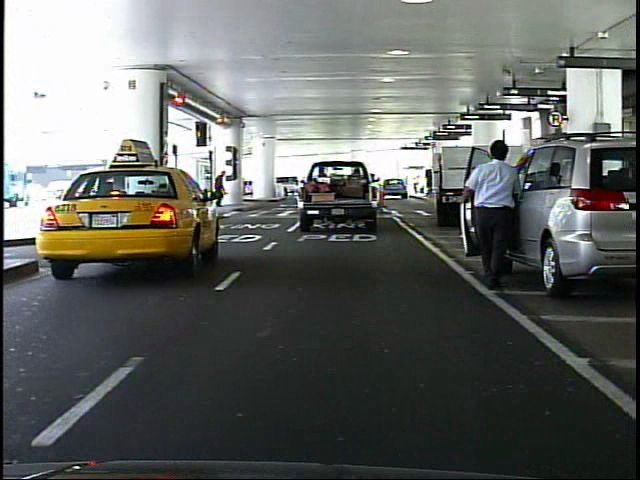person: (455, 131, 524, 292), (211, 166, 230, 209)
